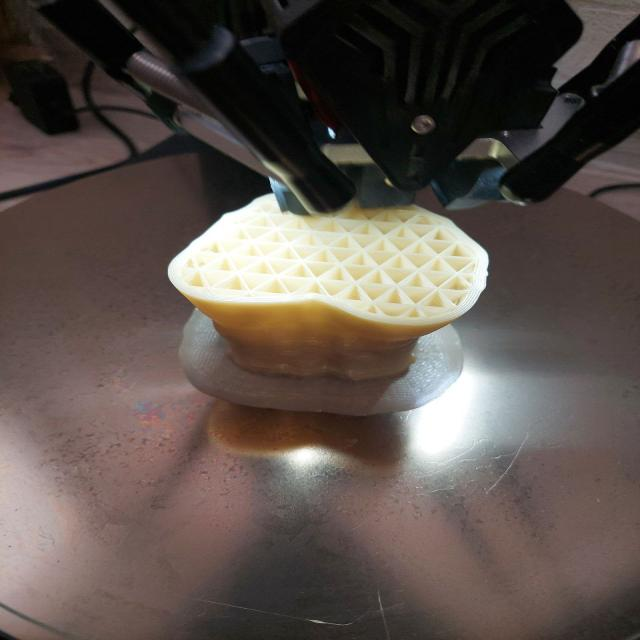Without deffect: (138, 167, 546, 439)
